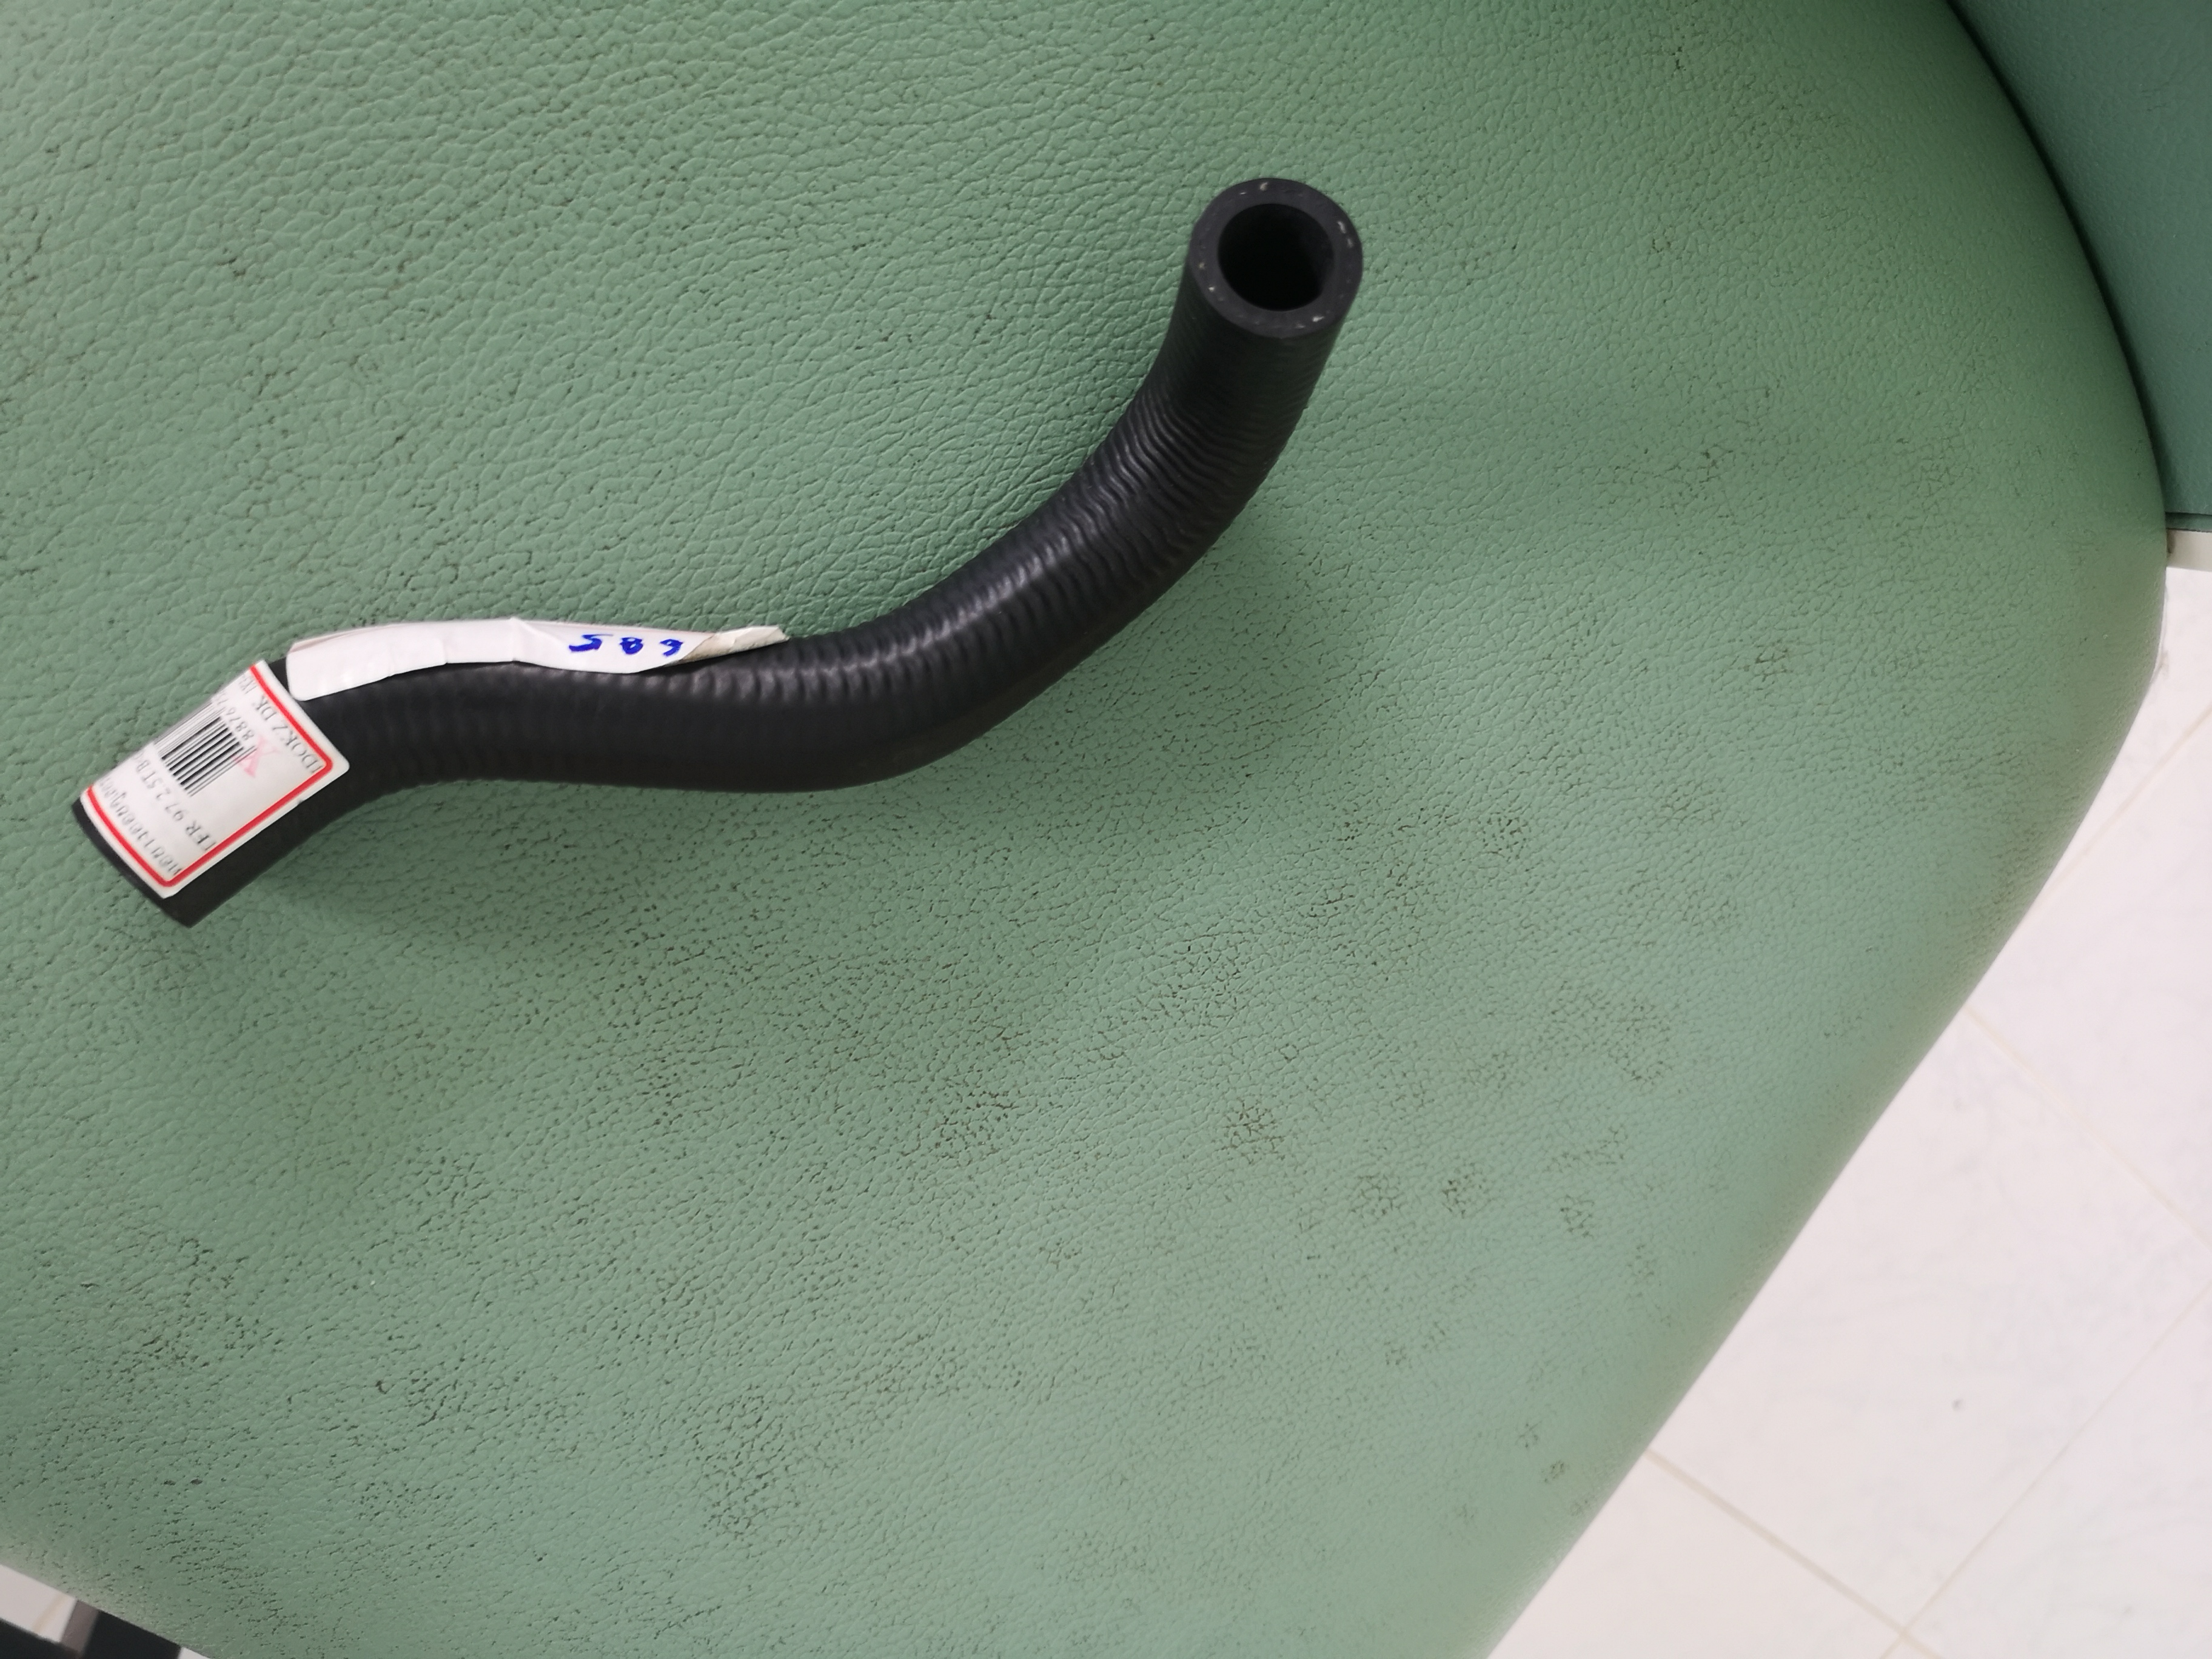ท่อยางน้ำมันเลี้ยงเทอร์โบ: (68, 106, 1400, 941)
